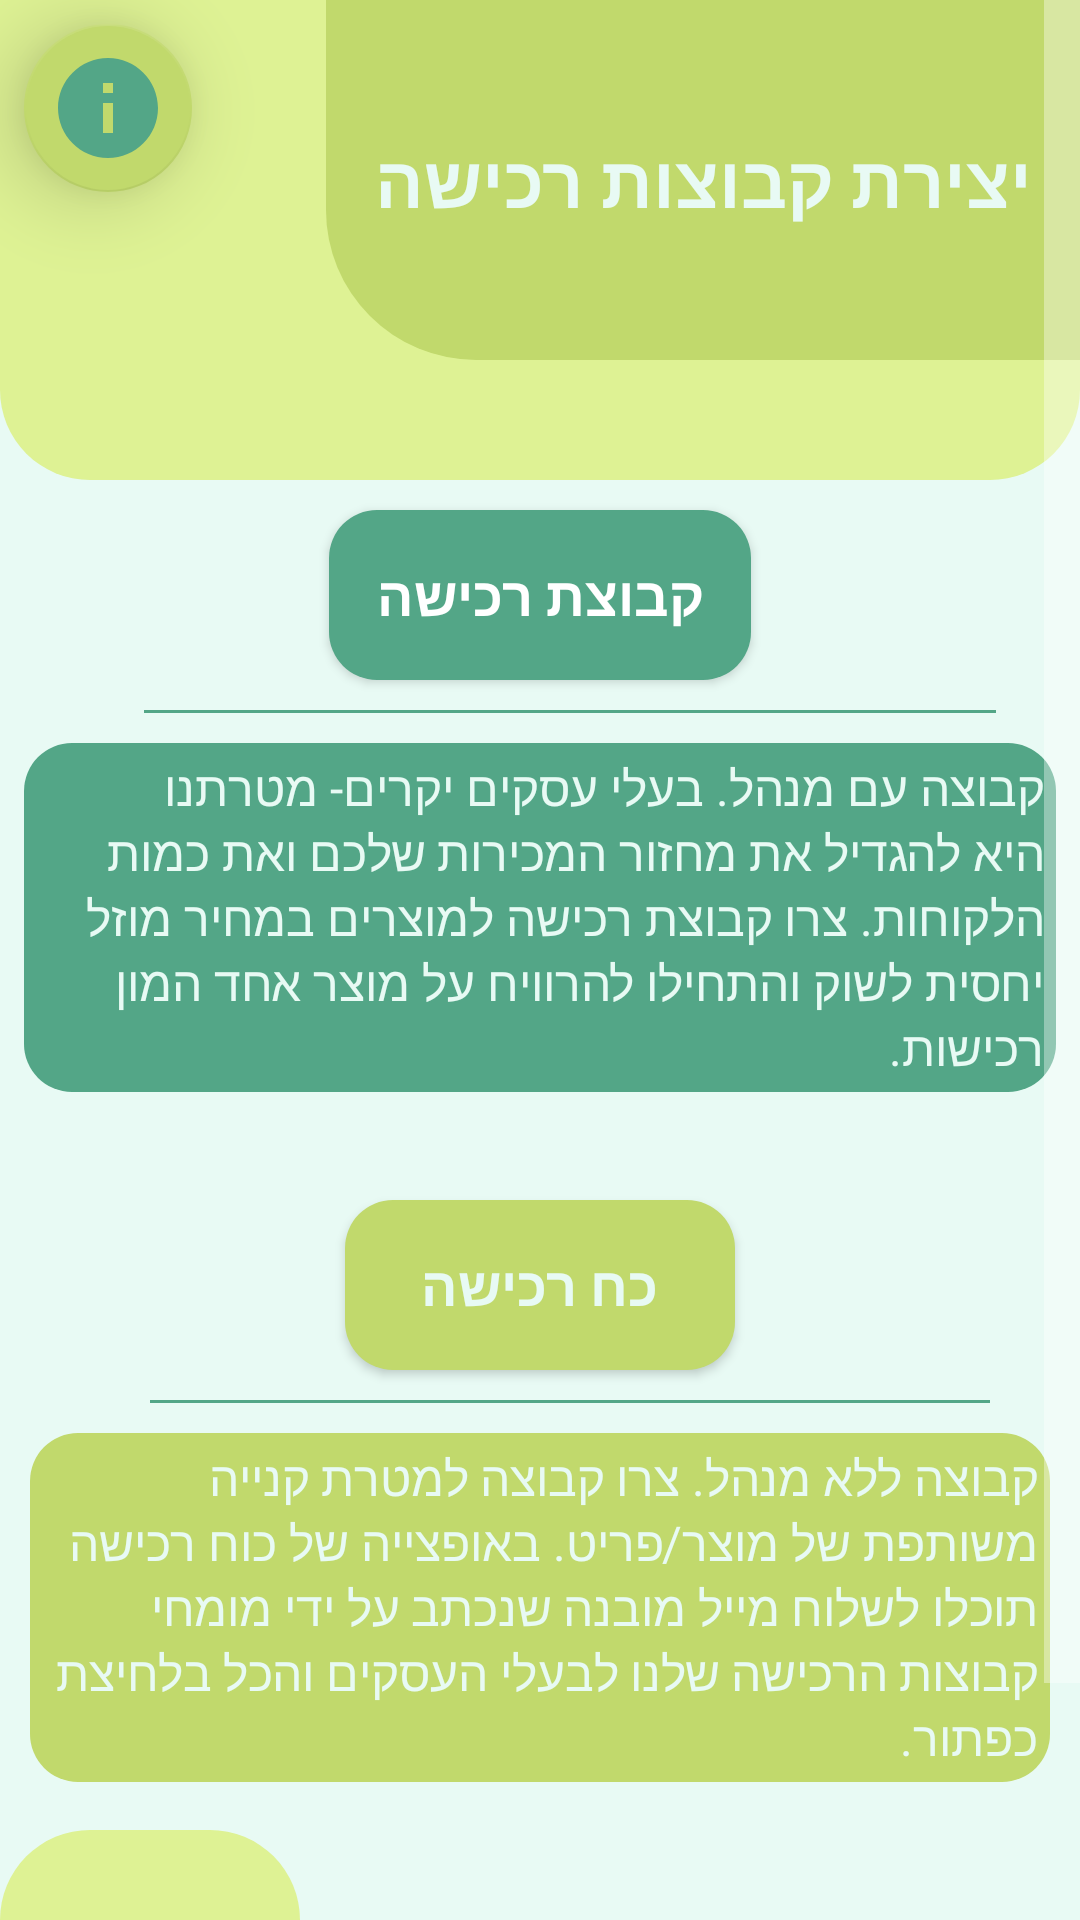

Where to tap for icons on this 1080 x 1920 app screen, as point (x, y):
info: point (108, 109)
